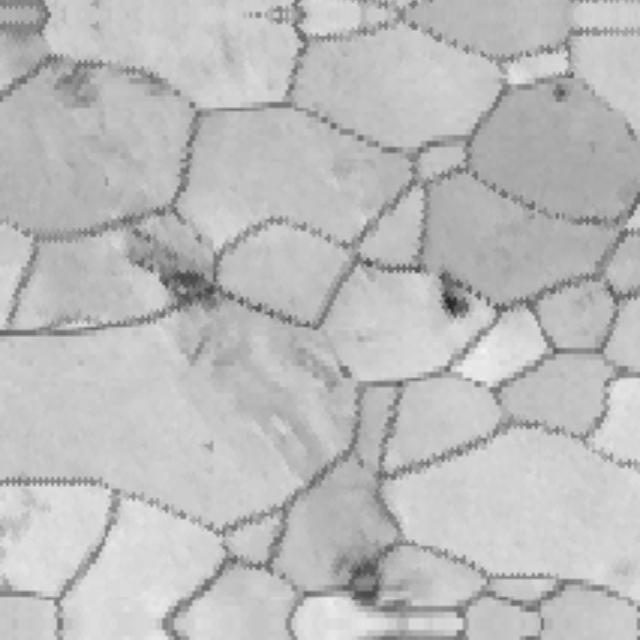good_void: (123, 223, 214, 301), (340, 558, 390, 611), (54, 62, 106, 110), (436, 279, 471, 321), (197, 436, 221, 463), (334, 358, 352, 392), (550, 84, 574, 106)
